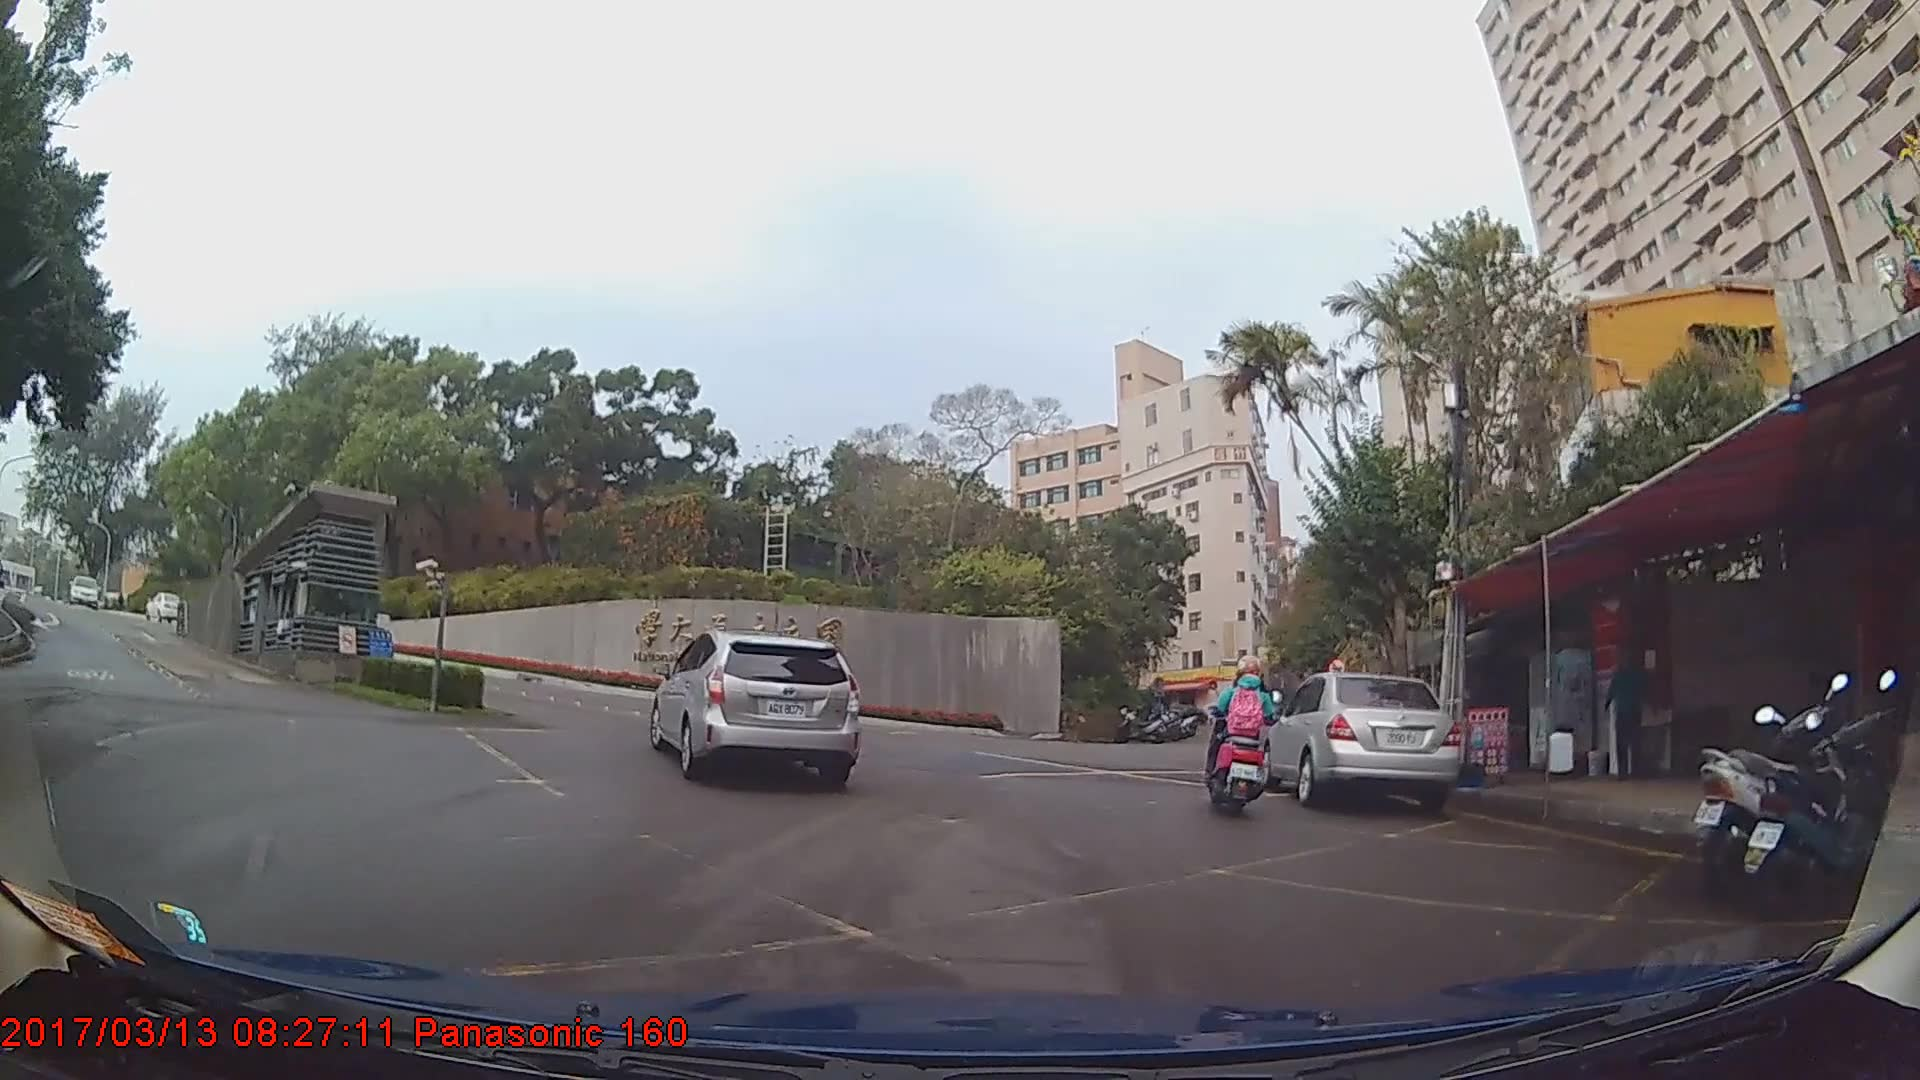pedestrian: (1599, 638, 1654, 779)
rider: (1203, 661, 1279, 830)
vehicle: (648, 629, 860, 788), (1258, 673, 1462, 807), (65, 573, 103, 609), (144, 592, 183, 622)
